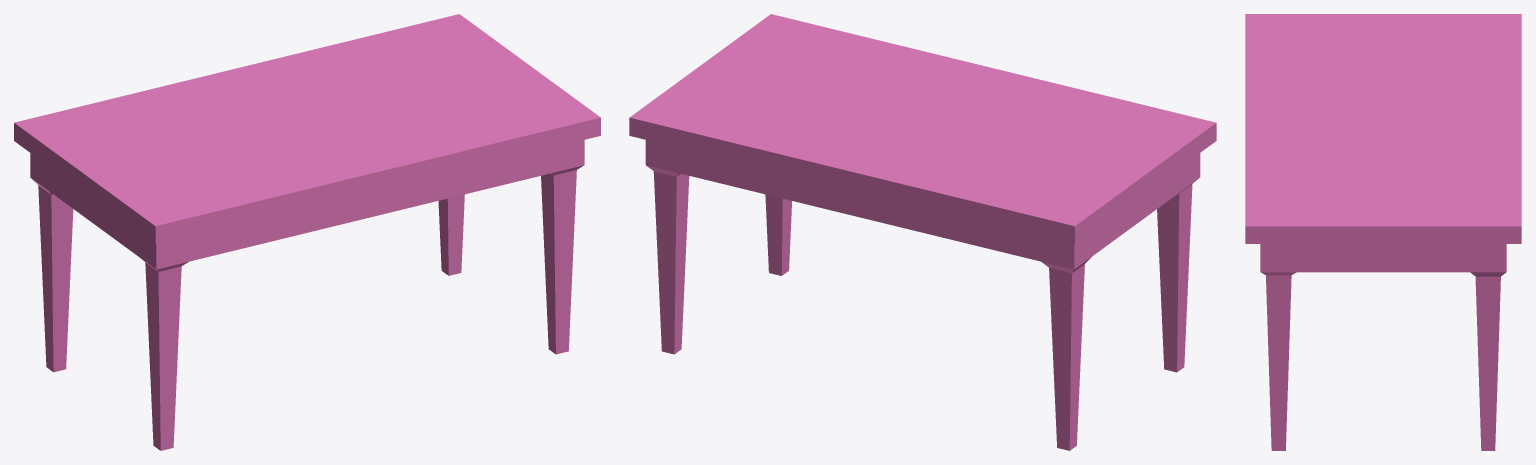
Rendered from Escrivaninha4Low.fbx.
3 views of the same model, side by side, from view 1: azimuth 30°, elevation 25°; view 2: azimuth 150°, elevation 25°; view 3: azimuth 270°, elevation 25° (orthographic). The views are drawn at different scales.
Parts seen in each view (by area): view 1: Escrivaninha4.002; view 2: Escrivaninha4.002; view 3: Escrivaninha4.002.
Boxes of the visible parts, <box> form: Escrivaninha4.002: <box>14,14,600,450</box>; Escrivaninha4.002: <box>629,14,1216,450</box>; Escrivaninha4.002: <box>1245,14,1521,450</box>.
Size of the model in its own units: 171 by 87.71 by 94.07.
